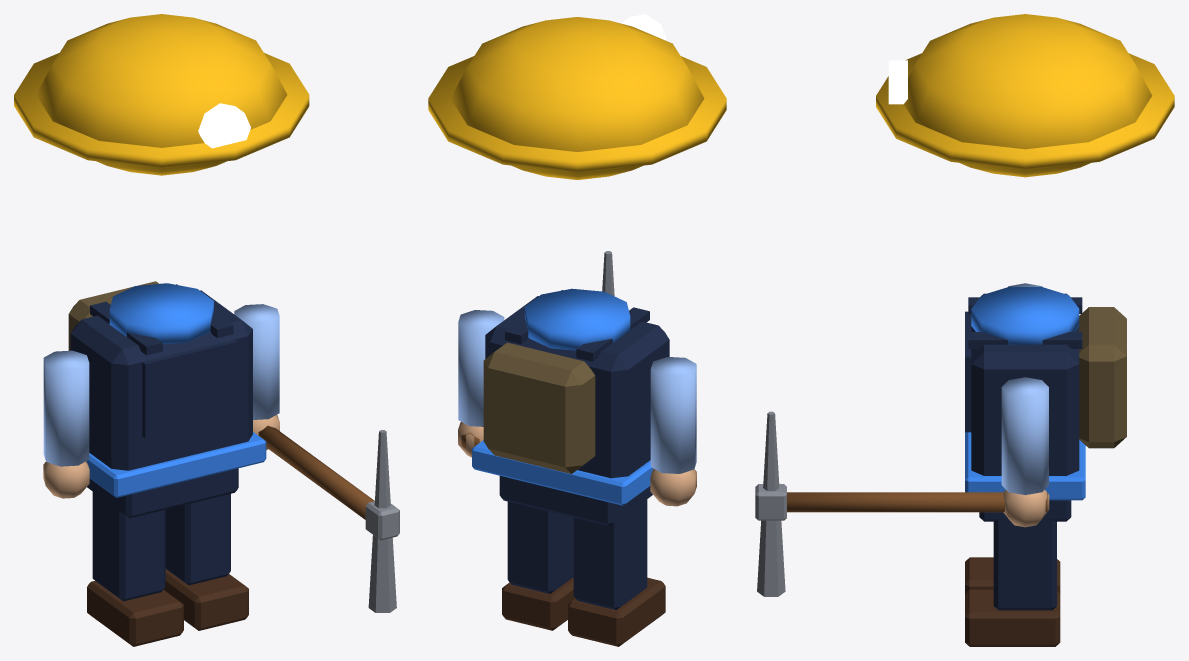
Rendered from nazar.glb.
3 renders of one model, left to right at view 1: azimuth 30°, elevation 25°; view 2: azimuth 150°, elevation 25°; view 3: azimuth 270°, elevation 25°, orthographic.
Visible parts, largest first — view 1: helmet, torso, brim, bib, thigh_L, upperarm_L, thigh_R, collar, belt, shoe_L, shoe_R, upperarm_R (+8 smaller); view 2: helmet, backpack, torso, brim, thigh_L, upperarm_L, thigh_R, collar, belt, shoe_L, upperarm_R, hips (+7 smaller); view 3: helmet, torso, brim, backpack, thigh_R, upperarm_R, collar, handle, shoe_R, pick, belt, hand_R (+6 smaller).
Boxes of the visible parts, bbox=[...] form: helmet: bbox=[36, 14, 287, 175]; torso: bbox=[70, 290, 252, 470]; brim: bbox=[14, 53, 309, 168]; bib: bbox=[142, 339, 237, 438]; thigh_L: bbox=[92, 491, 165, 601]; upperarm_L: bbox=[43, 350, 89, 466]; thigh_R: bbox=[165, 494, 230, 585]; collar: bbox=[109, 283, 213, 344]; belt: bbox=[86, 432, 266, 497]; shoe_L: bbox=[87, 581, 183, 646]; shoe_R: bbox=[164, 569, 248, 630]; upperarm_R: bbox=[234, 304, 279, 419]; helmet: bbox=[450, 17, 704, 179]; backpack: bbox=[483, 342, 595, 473]; torso: bbox=[485, 296, 669, 478]; brim: bbox=[428, 56, 726, 172]; thigh_L: bbox=[573, 499, 647, 609]; upperarm_L: bbox=[650, 357, 696, 473]; thigh_R: bbox=[507, 501, 573, 593]; collar: bbox=[524, 288, 630, 350]; belt: bbox=[472, 440, 653, 505]; shoe_L: bbox=[568, 577, 665, 646]; upperarm_R: bbox=[458, 310, 504, 426]; hips: bbox=[499, 476, 652, 526]; helmet: bbox=[904, 14, 1152, 177]; torso: bbox=[971, 293, 1079, 475]; brim: bbox=[876, 53, 1174, 170]; backpack: bbox=[1079, 307, 1126, 448]; thigh_R: bbox=[993, 519, 1056, 610]; upperarm_R: bbox=[1001, 377, 1048, 495]; collar: bbox=[971, 287, 1079, 344]; handle: bbox=[787, 492, 1047, 512]; shoe_R: bbox=[965, 589, 1060, 646]; pick: bbox=[757, 411, 785, 596]; belt: bbox=[965, 432, 1085, 500]; hand_R: bbox=[1003, 490, 1049, 527].
Size of the model in its own units: 0.94 by 2.04 by 1.32.
